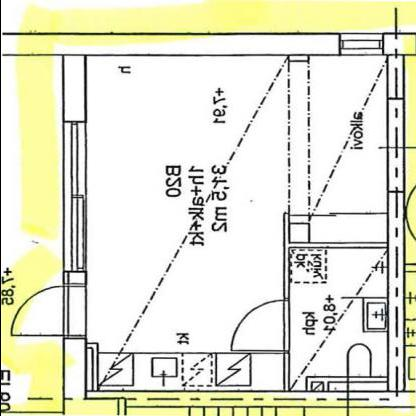door: (6, 280, 92, 343), (225, 297, 292, 354)
window: (56, 113, 92, 277), (335, 30, 385, 58)
